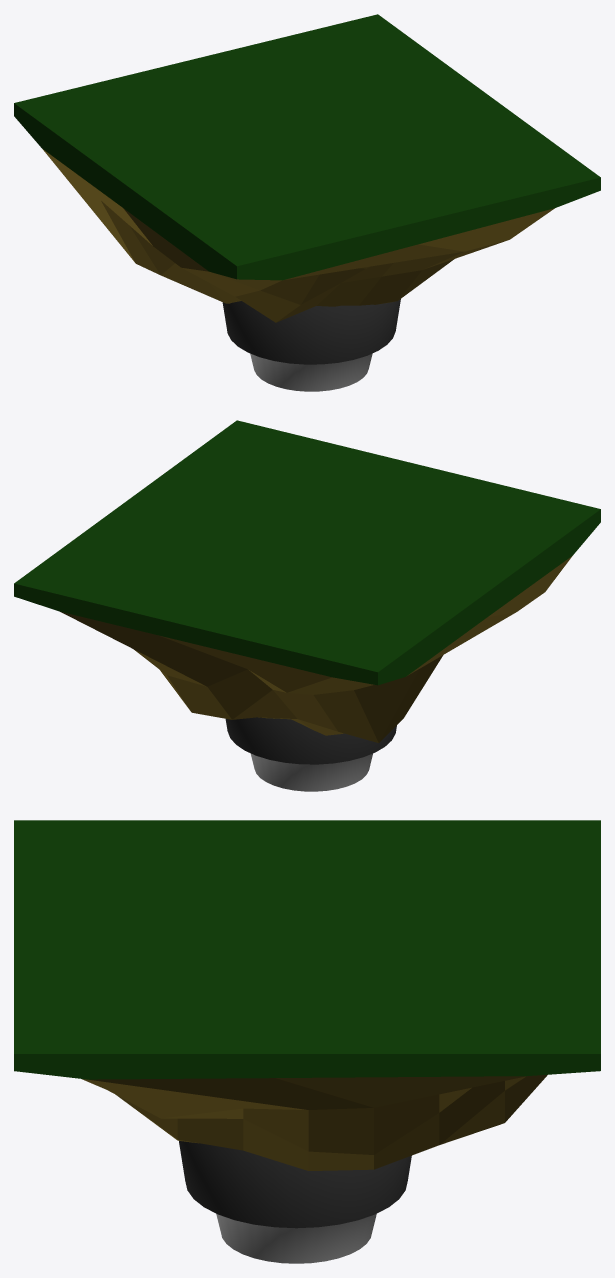
Rendered from Island9.fbx.
The picture shows the model from 3 angles, top to bottom: view 1: azimuth 30°, elevation 25°; view 2: azimuth 150°, elevation 25°; view 3: azimuth 270°, elevation 25°; orthographic projection. The views are drawn at different scales.
Parts seen in each view (by area): view 1: Island9; view 2: Island9; view 3: Island9.
Part boxes in pixels (x1=…): Island9: x1=14, y1=14, x2=600, y2=391; Island9: x1=14, y1=420, x2=600, y2=791; Island9: x1=14, y1=820, x2=600, y2=1263.
Size of the model in its own units: 5941 by 3494 by 6304.
